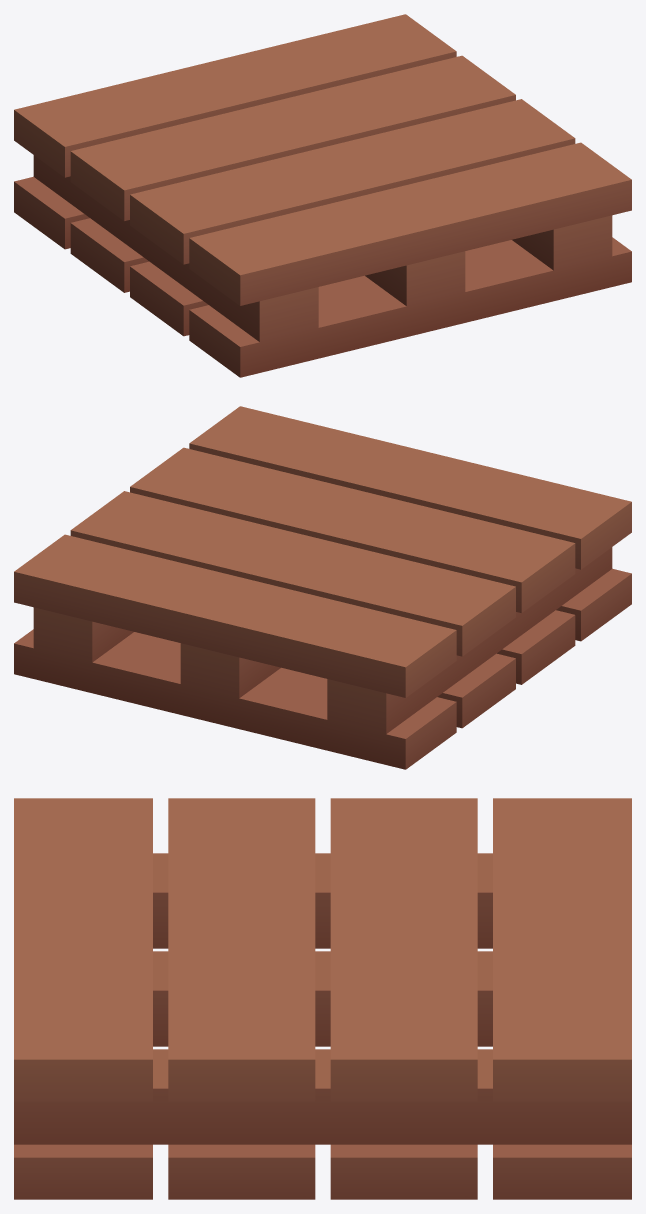
The model's file is Pallet_Small.glb.
3 views of the same model, one above another, from view 1: azimuth 30°, elevation 25°; view 2: azimuth 150°, elevation 25°; view 3: azimuth 270°, elevation 25° (orthographic). The views are drawn at different scales.
Visible parts, largest first — view 1: Pallet_Small; view 2: Pallet_Small; view 3: Pallet_Small.
Part boxes in pixels (x1,y1,x2,y2): Pallet_Small: [14, 14, 631, 377]; Pallet_Small: [14, 406, 631, 769]; Pallet_Small: [14, 798, 631, 1199].
Bounding box in the file's own units: 2 × 0.5 × 2.
1 material, 1 textured.
